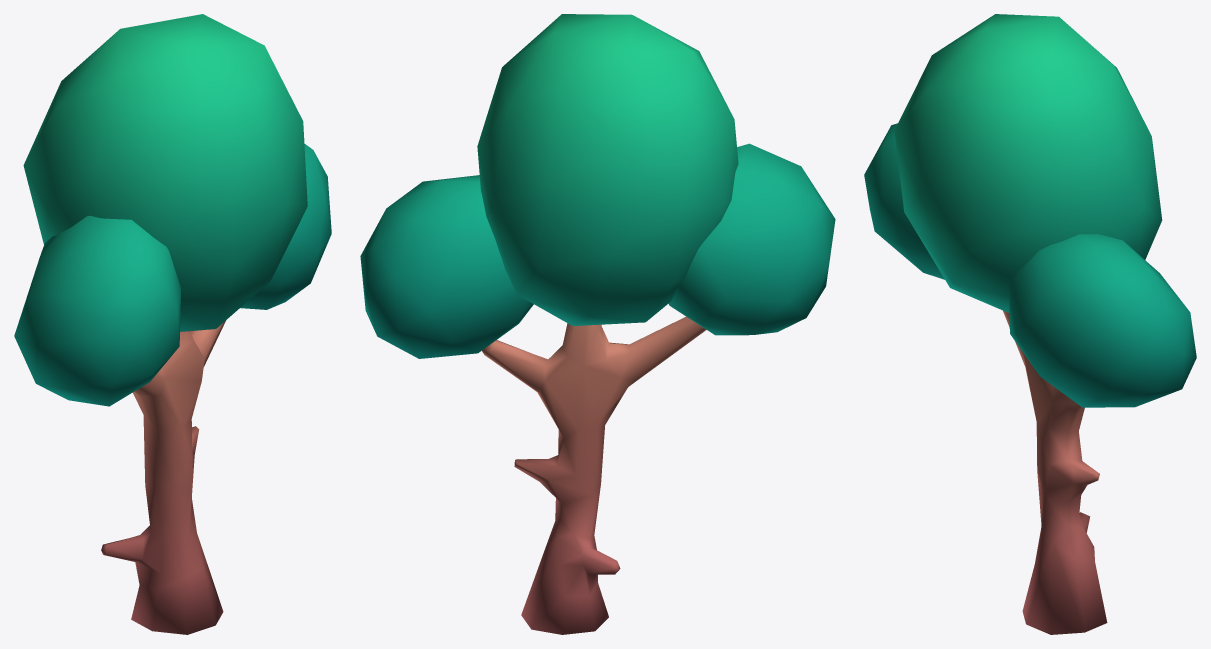
Rendered from Tree_2_3.fbx.
The picture shows the model from 3 angles, left to right: view 1: azimuth 30°, elevation 25°; view 2: azimuth 150°, elevation 25°; view 3: azimuth 270°, elevation 25°; orthographic projection. The views are drawn at different scales.
Parts seen in each view (by area): view 1: Tree_2_3; view 2: Tree_2_3; view 3: Tree_2_3.
Boxes of the visible parts, x1,y1,x2,y2 form: Tree_2_3: (14,14,331,634); Tree_2_3: (360,14,835,634); Tree_2_3: (864,14,1196,634).
Size of the model in its own units: 143 by 216 by 113.
